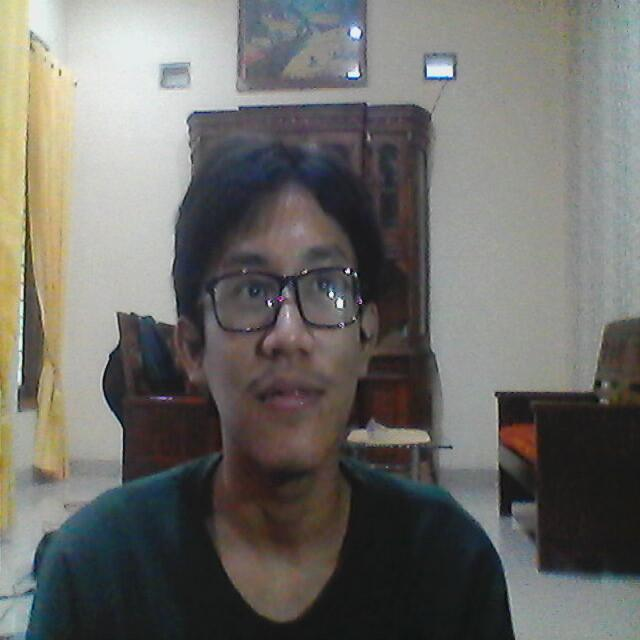eye: (232, 276, 274, 302), (304, 272, 343, 300)
gaze: (247, 282, 261, 298), (317, 277, 331, 293)
